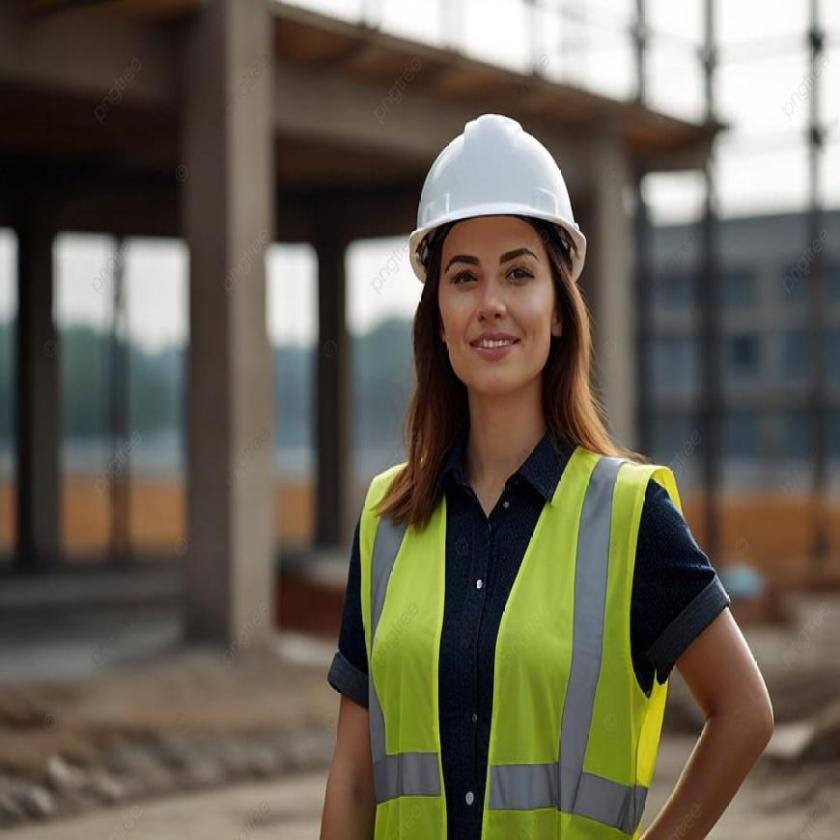Con_casco: (394, 98, 604, 466)
